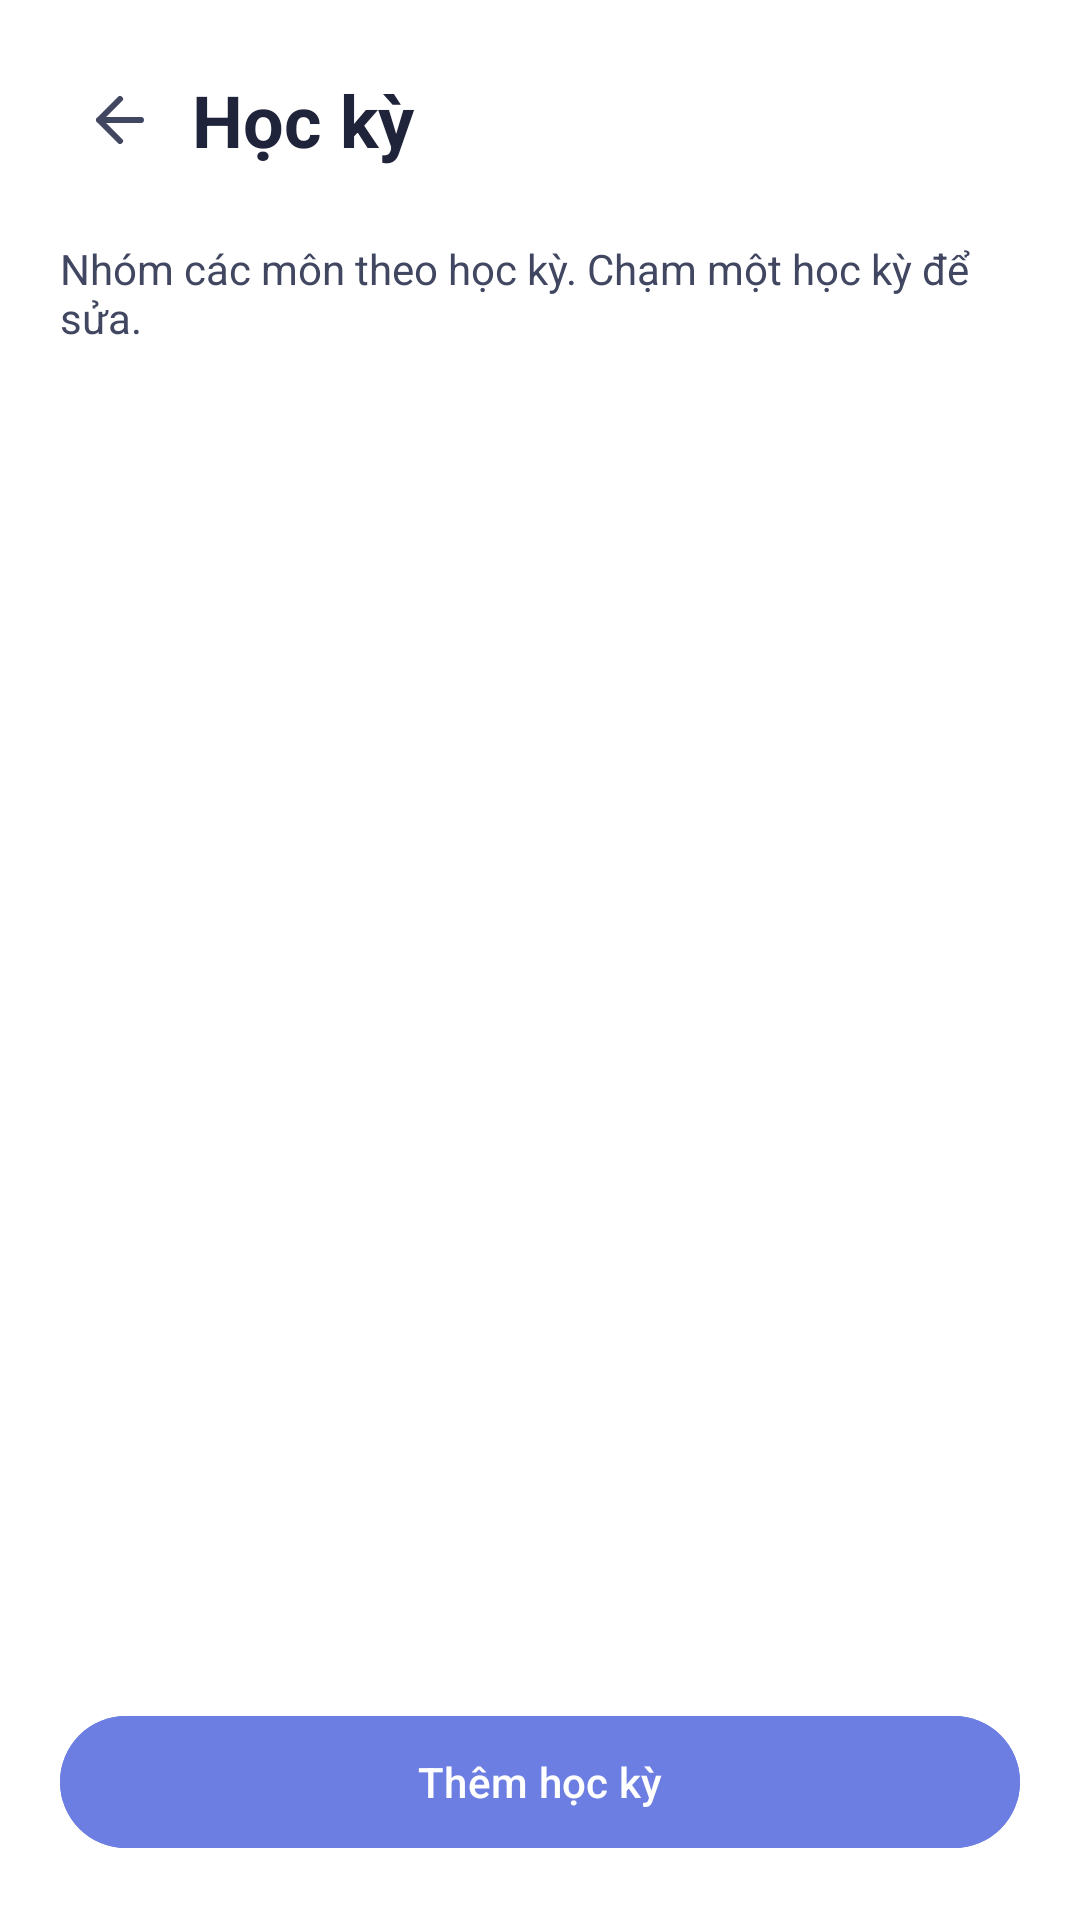

Locate icon controls on the screen. Image size 1080x1920, boxes as (x1, y1, x2, y2).
Quay lại: (96, 96, 144, 144)
